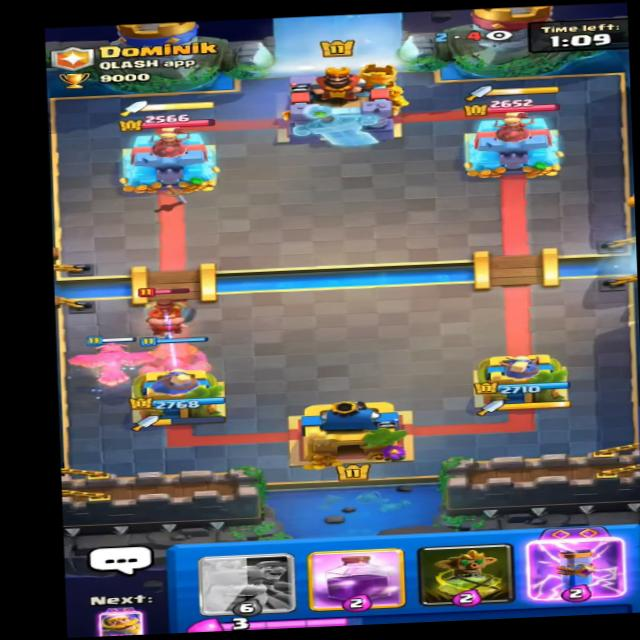ram-rider: (139, 287, 192, 337)
